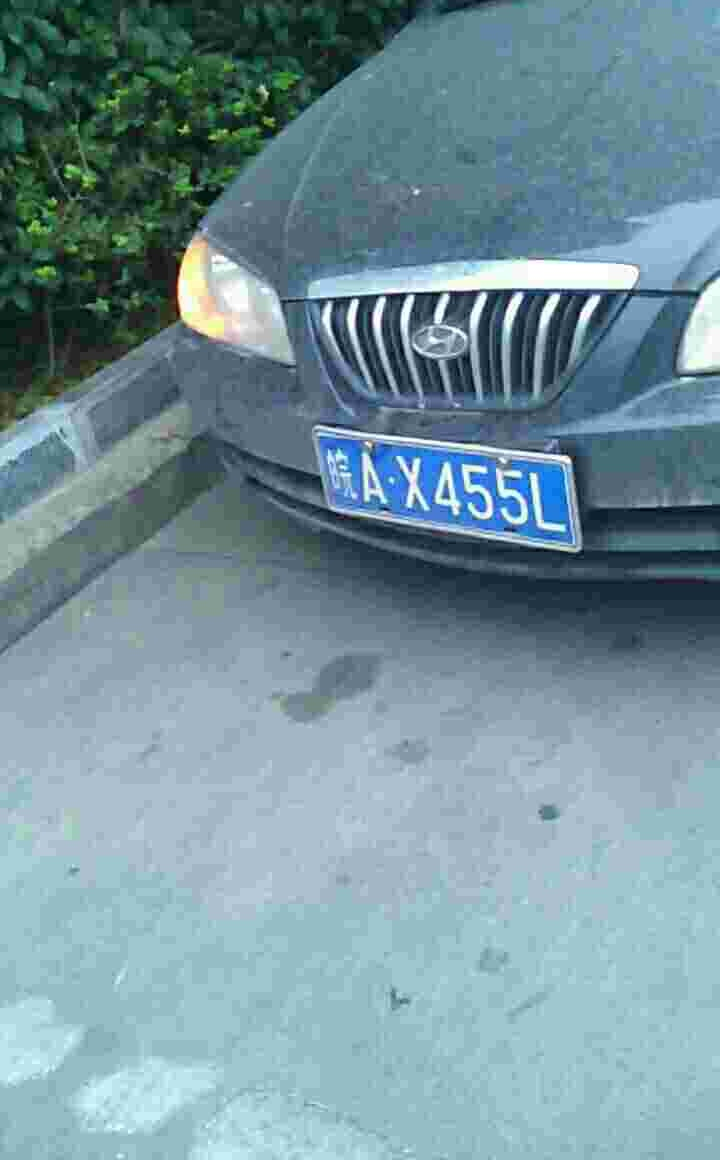license_plate: (320, 432, 568, 549)
